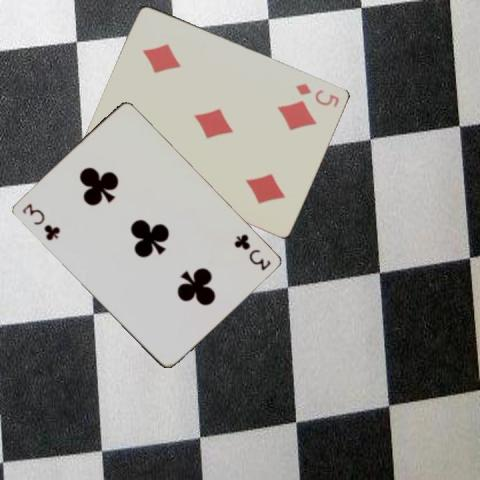3c: (19, 201, 61, 242), (231, 231, 272, 272)
5d: (293, 80, 341, 109)
